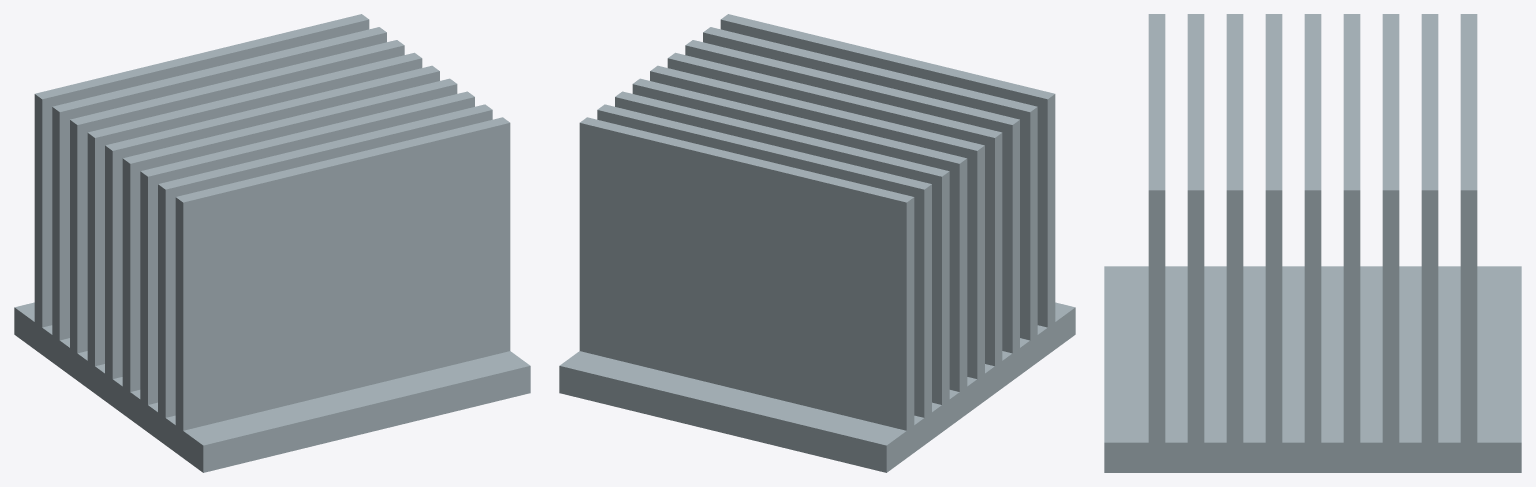
The model's file is Cooler.fbx.
The picture shows the model from 3 angles, left to right: view 1: azimuth 30°, elevation 25°; view 2: azimuth 150°, elevation 25°; view 3: azimuth 270°, elevation 25°; orthographic projection. The views are drawn at different scales.
Parts seen in each view (by area): view 1: Sirip; view 2: Sirip; view 3: Sirip.
Part boxes in pixels (x1,y1,x2,y2): Sirip: [14, 14, 530, 472]; Sirip: [559, 14, 1075, 472]; Sirip: [1104, 14, 1521, 472].
Bounding box in the file's own units: 7.5 × 5.6 × 7.5.
